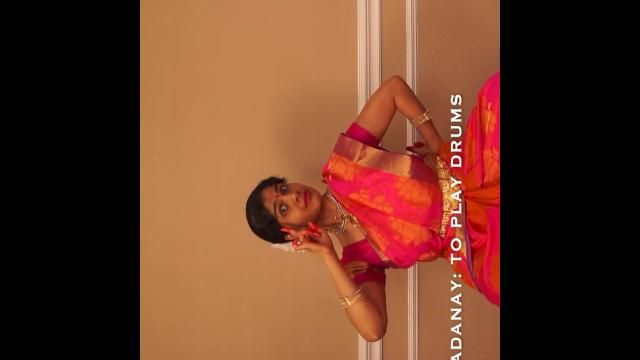soochi: (274, 217, 346, 257)
